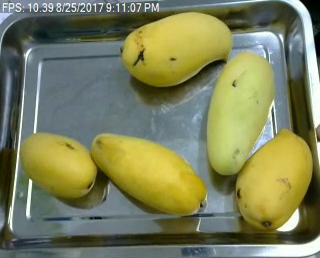Mango: (88, 132, 215, 215), (202, 50, 276, 178), (120, 9, 231, 83), (236, 129, 310, 229), (19, 128, 100, 199)
